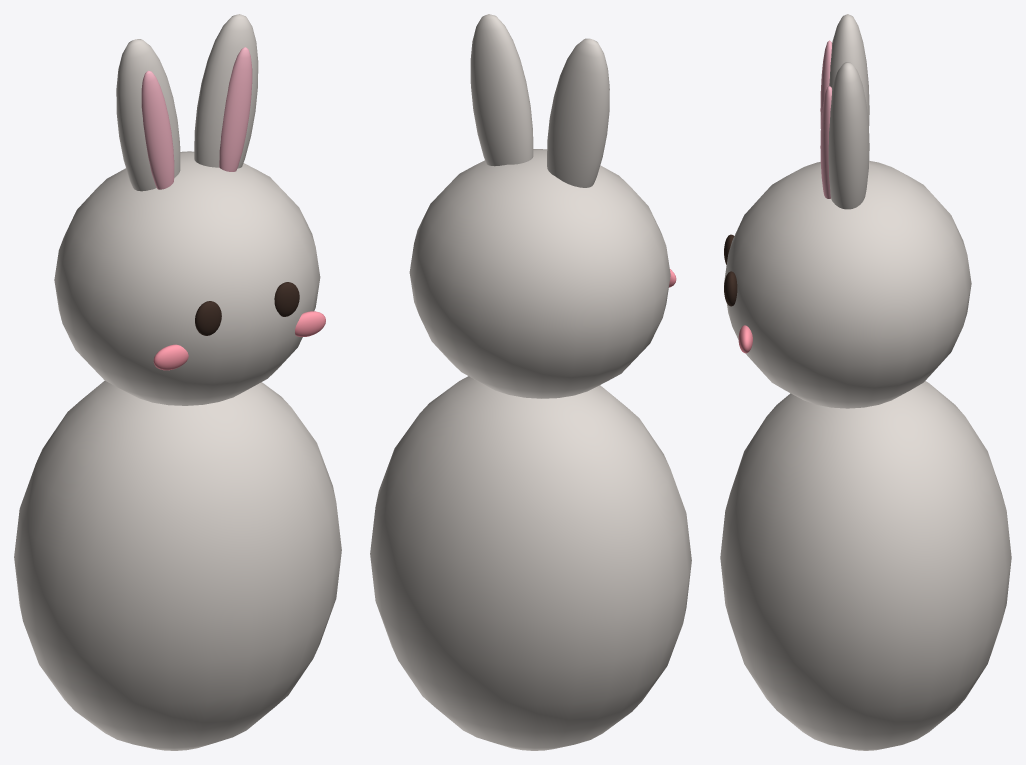
File: Customer_Rabbit.fbx
3 views of the same model, side by side, from view 1: azimuth 30°, elevation 25°; view 2: azimuth 150°, elevation 25°; view 3: azimuth 270°, elevation 25° (orthographic). The views are drawn at different scales.
Parts seen in each view (by area): view 1: Customer_Rabbit; view 2: Customer_Rabbit; view 3: Customer_Rabbit.
Part boxes in pixels (x1,y1,x2,y2): Customer_Rabbit: (14,14,341,750); Customer_Rabbit: (370,14,691,750); Customer_Rabbit: (720,14,1011,750).
Size of the model in its own units: 0.9 by 2.12 by 0.8.
